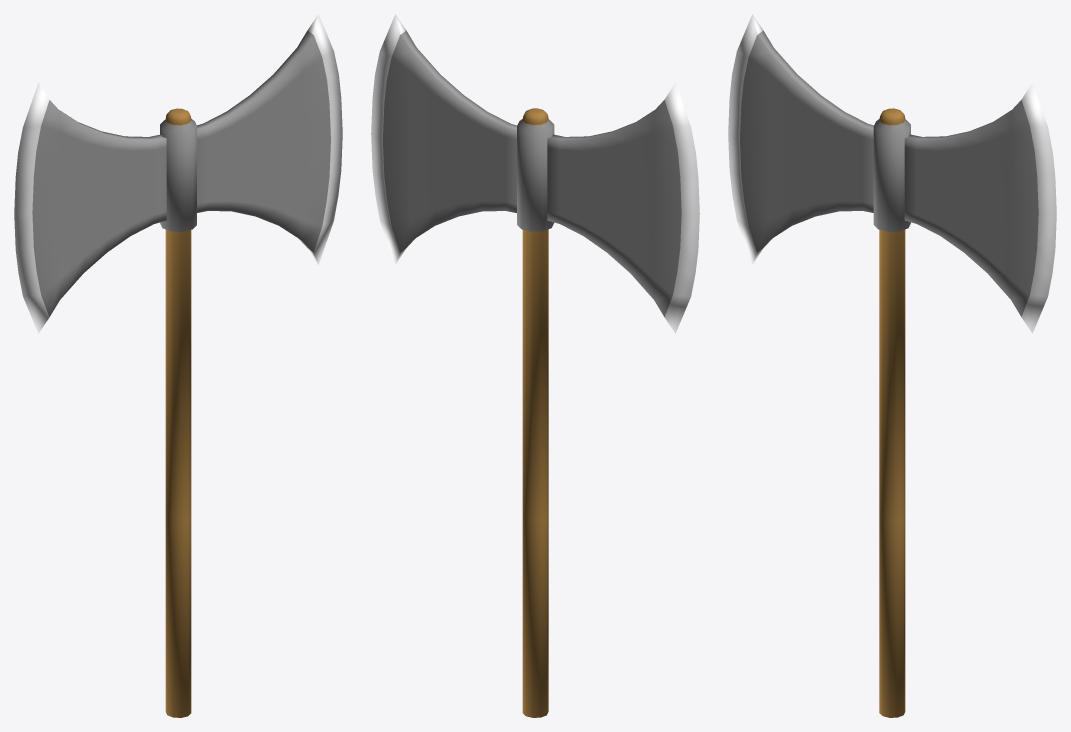
File: Hacha.fbx
3 views of the same model, side by side, from view 1: azimuth 30°, elevation 25°; view 2: azimuth 150°, elevation 25°; view 3: azimuth 330°, elevation 25° (orthographic).
Visible parts, largest first — view 1: Filo Derecho, Filo Izquierdo, Palo; view 2: Filo Derecho, Filo Izquierdo, Palo; view 3: Filo Izquierdo, Filo Derecho, Palo.
Boxes of the visible parts, x1=… form: Filo Derecho: x1=14, y1=82, x2=166, y2=333; Filo Izquierdo: x1=197, y1=14, x2=342, y2=265; Palo: x1=160, y1=108, x2=196, y2=717; Filo Derecho: x1=547, y1=82, x2=699, y2=333; Filo Izquierdo: x1=371, y1=14, x2=516, y2=264; Palo: x1=517, y1=108, x2=554, y2=717; Filo Izquierdo: x1=904, y1=82, x2=1056, y2=333; Filo Derecho: x1=728, y1=14, x2=873, y2=264; Palo: x1=873, y1=108, x2=910, y2=717.
Size of the model in its own units: 69.14 by 134 by 6.46.
